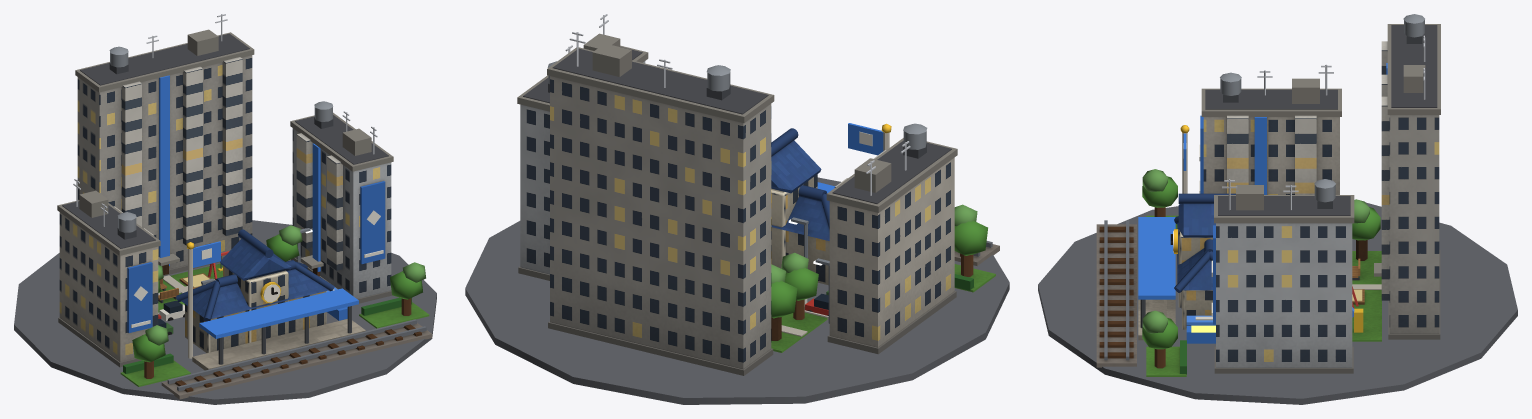
The model's file is city_dl6_blue.glb.
3 views of the same model, side by side, from view 1: azimuth 30°, elevation 25°; view 2: azimuth 150°, elevation 25°; view 3: azimuth 270°, elevation 25° (orthographic). The views are drawn at different scales.
Visible parts, largest first — view 1: city_dl6_blue; view 2: city_dl6_blue; view 3: city_dl6_blue.
Part boxes in pixels (box(x1,y1,x2,y2)): city_dl6_blue: box(14, 14, 436, 404); city_dl6_blue: box(465, 14, 1009, 404); city_dl6_blue: box(1038, 14, 1517, 404).
Size of the model in its own units: 1.55 by 0.952 by 1.55.
3 materials, 1 textured.
